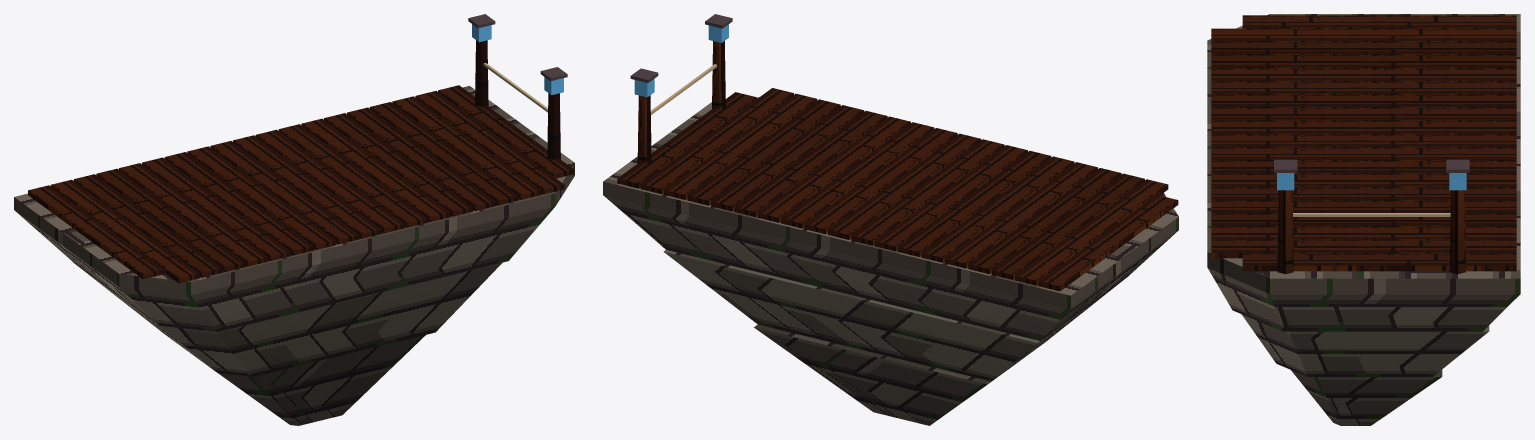
File: bifrost_landing.glb
3 views of the same model, side by side, from view 1: azimuth 30°, elevation 25°; view 2: azimuth 150°, elevation 25°; view 3: azimuth 270°, elevation 25° (orthographic). The views are drawn at different scales.
Visible parts, largest first — view 1: bifrost_landing; view 2: bifrost_landing; view 3: bifrost_landing.
Part boxes in pixels (x1,y1,x2,y2): bifrost_landing: (14,14,574,425); bifrost_landing: (603,14,1178,425); bifrost_landing: (1207,14,1520,425).
Size of the model in its own units: 8 by 5.21 by 4.
4 materials, 2 textured.
